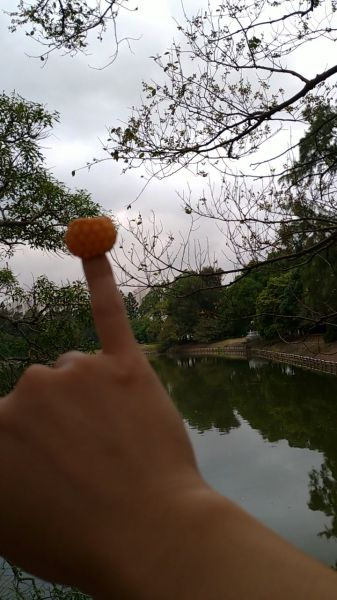eggs: (67, 216, 116, 257)
